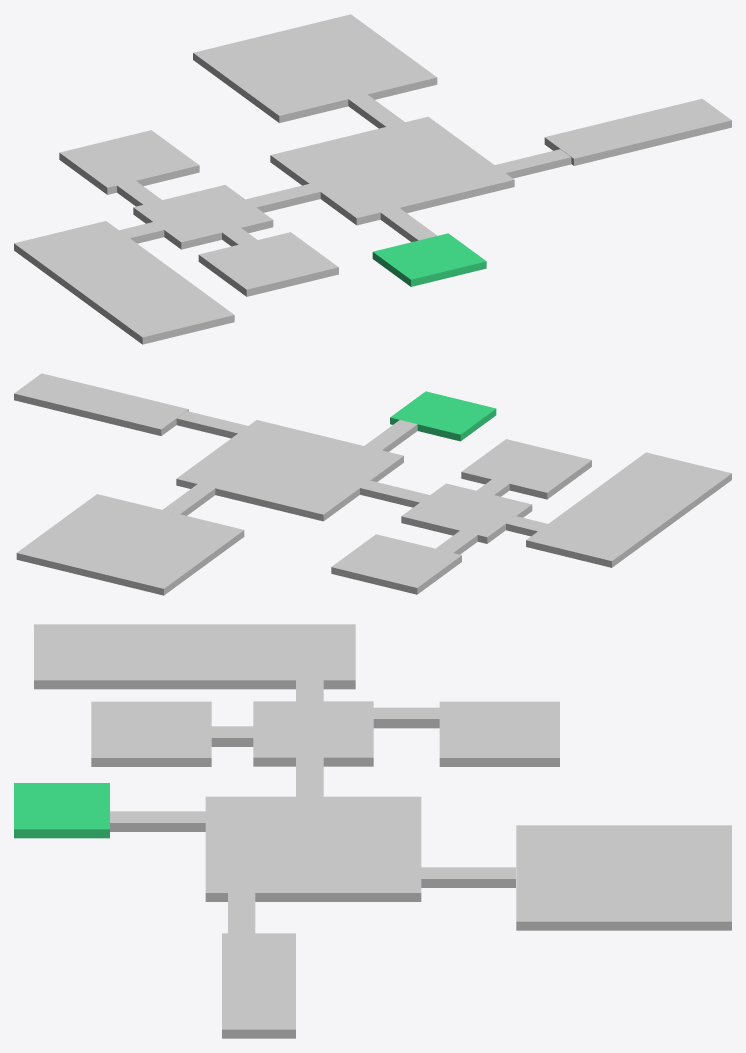
The model's file is portfolioSiteOutline.glb.
The picture shows the model from 3 angles, top to bottom: view 1: azimuth 30°, elevation 25°; view 2: azimuth 150°, elevation 25°; view 3: azimuth 270°, elevation 25°; orthographic projection. The views are drawn at different scales.
Visible parts, largest first — view 1: Cube.005, Cube.002, Cube.010, Cube.008, Cube.011, Cube.009, Cube.007, Cube, Cube.004, Cube.006, Cube.001, Cube.003 (+3 smaller); view 2: Cube.005, Cube.002, Cube.010, Cube.008, Cube.009, Cube.007, Cube.011, Cube, Cube.004, Cube.006, Cube.001, Cube.003 (+3 smaller); view 3: Cube.005, Cube.002, Cube.010, Cube.009, Cube.011, Cube.008, Cube.007, Cube, Cube.001, Cube.003, Cube.013, Cube.014 (+3 smaller).
Part boxes in pixels (box(x1,y1,x2,y2)): Cube.005: box(193, 14, 437, 122); Cube.002: box(270, 116, 514, 225); Cube.010: box(14, 221, 234, 344); Cube.008: box(544, 98, 731, 165); Cube.011: box(198, 232, 338, 296); Cube.009: box(59, 130, 199, 194); Cube.007: box(133, 185, 273, 249); Cube: box(372, 233, 486, 286); Cube.004: box(494, 149, 571, 178); Cube.006: box(245, 184, 321, 212); Cube.001: box(380, 208, 437, 242); Cube.003: box(348, 94, 405, 128); Cube.005: box(16, 494, 244, 595); Cube.002: box(176, 420, 403, 521); Cube.010: box(526, 452, 731, 567); Cube.008: box(14, 373, 188, 435); Cube.009: box(331, 534, 461, 594); Cube.007: box(401, 483, 532, 543); Cube.011: box(461, 439, 591, 499); Cube: box(390, 391, 496, 441); Cube.004: box(176, 411, 247, 438); Cube.006: box(359, 480, 430, 507); Cube.001: box(364, 420, 417, 451); Cube.003: box(162, 484, 215, 515); Cube.005: box(516, 825, 731, 930); Cube.002: box(205, 796, 421, 901); Cube.010: box(34, 624, 355, 689); Cube.009: box(439, 701, 559, 766); Cube.011: box(91, 701, 211, 766); Cube.008: box(222, 933, 295, 1038); Cube.007: box(253, 701, 373, 766); Cube: box(14, 783, 109, 838); Cube.001: box(110, 811, 205, 831); Cube.003: box(420, 867, 515, 887); Cube.013: box(345, 707, 440, 728); Cube.014: box(185, 726, 281, 746).
Size of the model in its own units: 86.86 by 0.9025 by 64.99.
